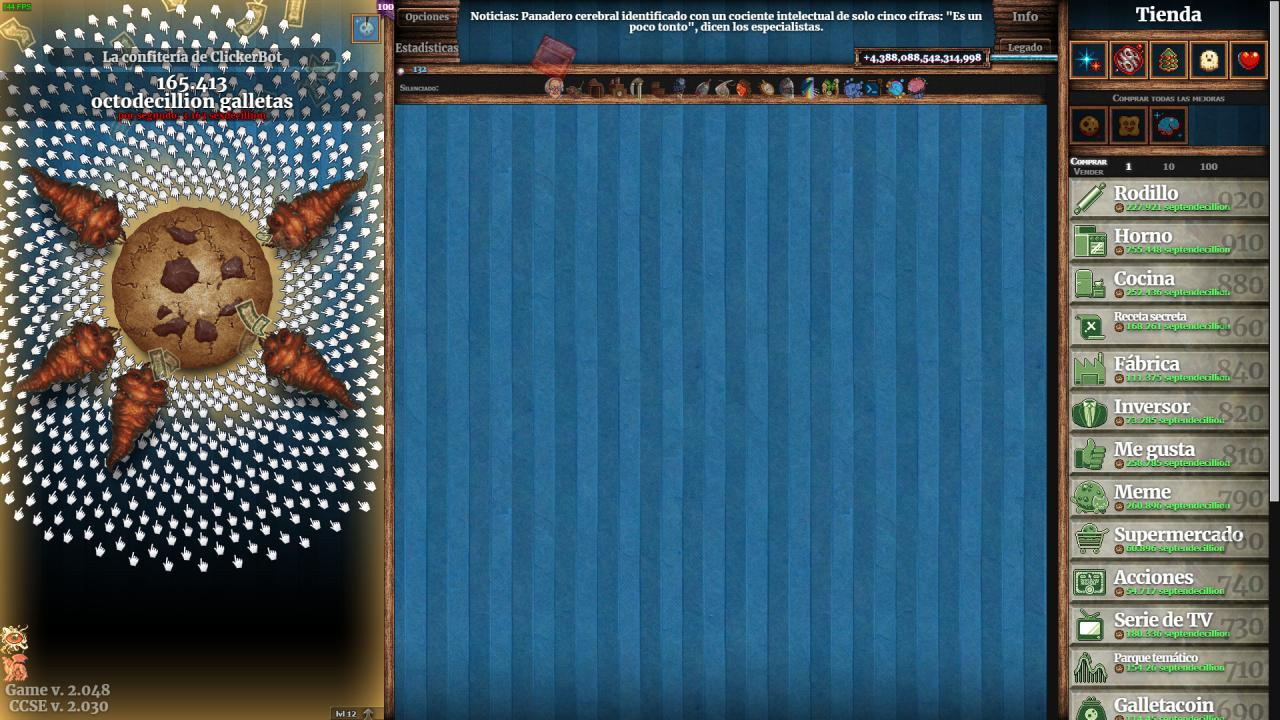RedCartridge: (529, 31, 579, 83)
